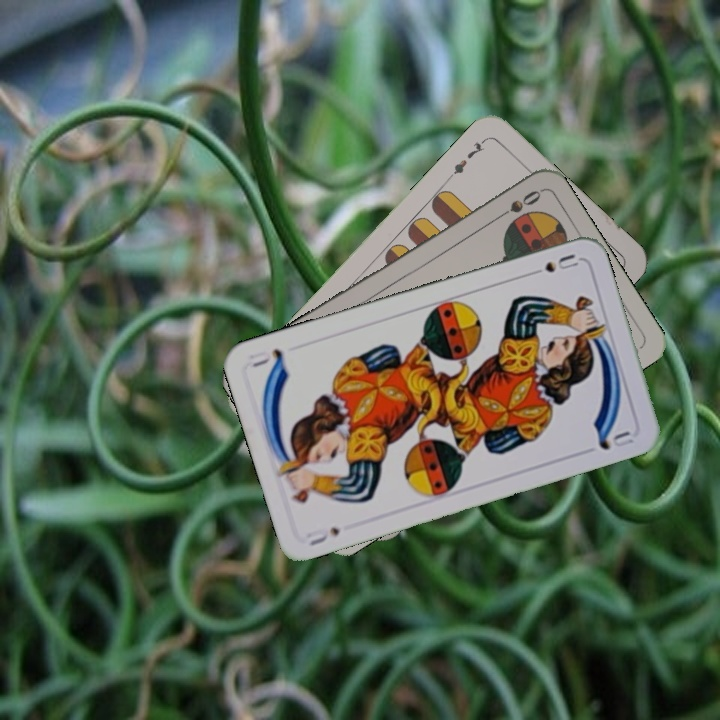E7: (444, 134, 489, 182)
SO: (490, 186, 544, 224)
SU: (524, 250, 581, 279), (302, 522, 343, 549)
